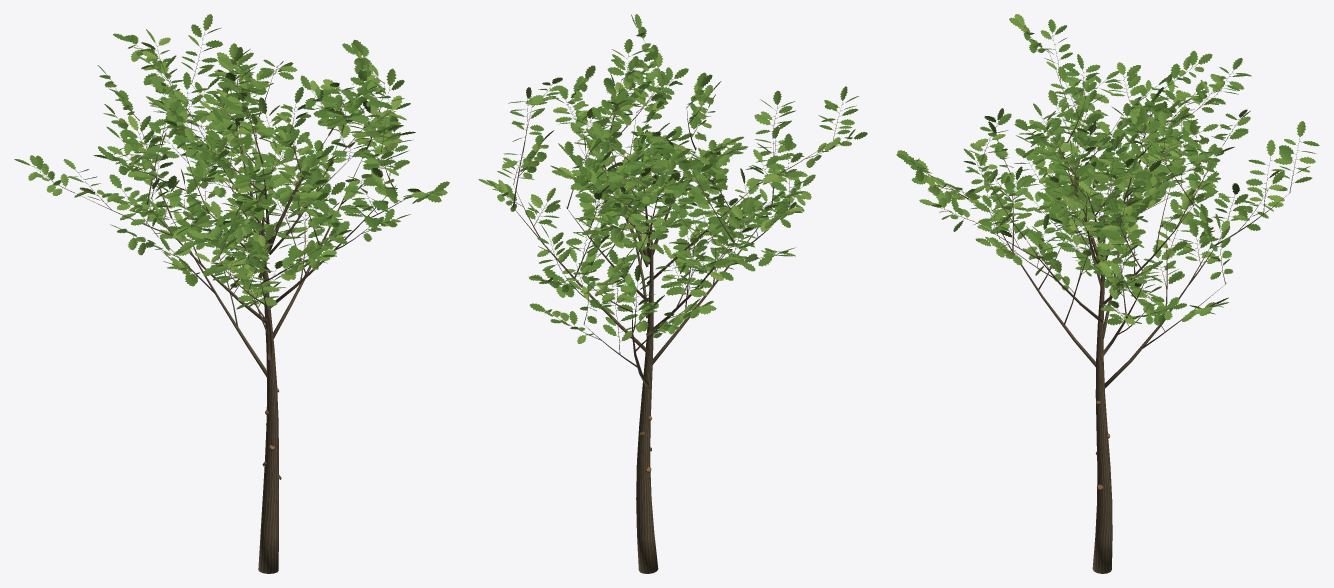
Rendered from Sessile_Oak_Young_01_HighPruned_Recent_LOD0.fbx.
The picture shows the model from 3 angles, left to right: view 1: azimuth 30°, elevation 25°; view 2: azimuth 150°, elevation 25°; view 3: azimuth 270°, elevation 25°; orthographic projection. The views are drawn at different scales.
Parts seen in each view (by area): view 1: Sessile_Oak_Young_01_HighPruned_Recent_LOD0; view 2: Sessile_Oak_Young_01_HighPruned_Recent_LOD0; view 3: Sessile_Oak_Young_01_HighPruned_Recent_LOD0.
Part boxes in pixels (box(x1,y1,x2,y2)): Sessile_Oak_Young_01_HighPruned_Recent_LOD0: box(14, 14, 449, 573); Sessile_Oak_Young_01_HighPruned_Recent_LOD0: box(478, 14, 867, 573); Sessile_Oak_Young_01_HighPruned_Recent_LOD0: box(896, 14, 1319, 573).
Size of the model in its own units: 562 by 799 by 620.
Materials: 6 (2 with a texture image).
